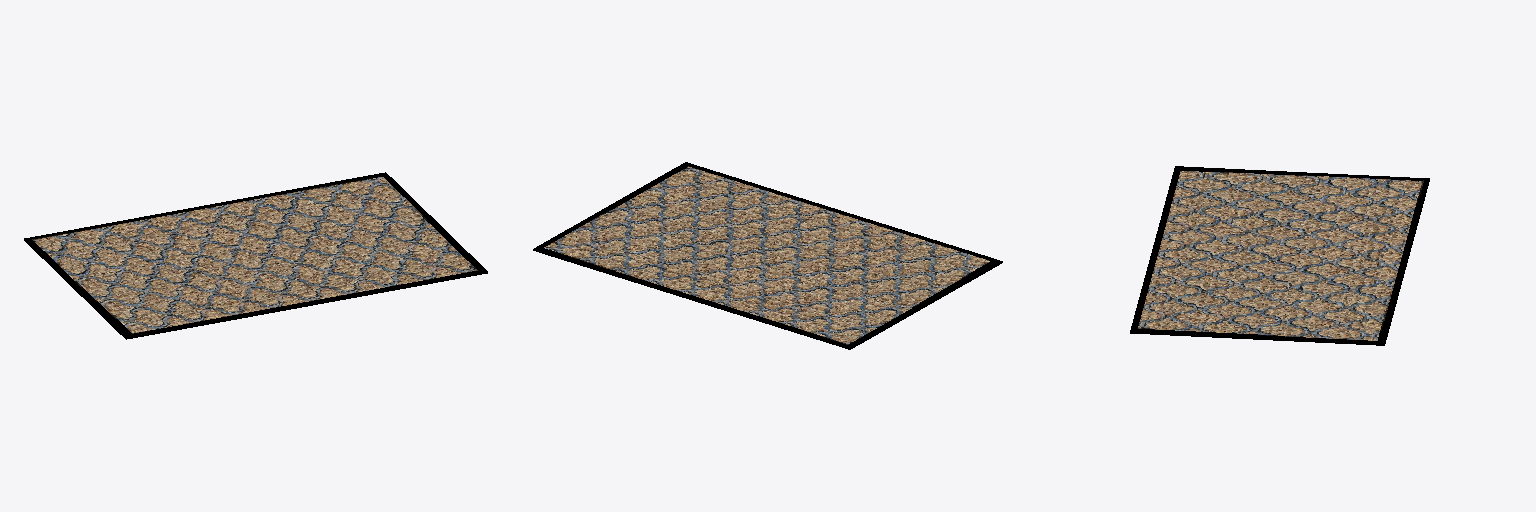
3 views of the same model, side by side, from view 1: azimuth 30°, elevation 25°; view 2: azimuth 150°, elevation 25°; view 3: azimuth 270°, elevation 25° (orthographic).
Parts seen in each view (by area): view 1: Plane.003; view 2: Plane.003; view 3: Plane.003.
Boxes of the visible parts, <box> form: Plane.003: <box>24,172,487,339</box>; Plane.003: <box>533,162,1002,349</box>; Plane.003: <box>1130,166,1429,345</box>.
Size of the model in its own units: 2.14 by 0.0091 by 1.52.
Materials: 1 (1 with a texture image).